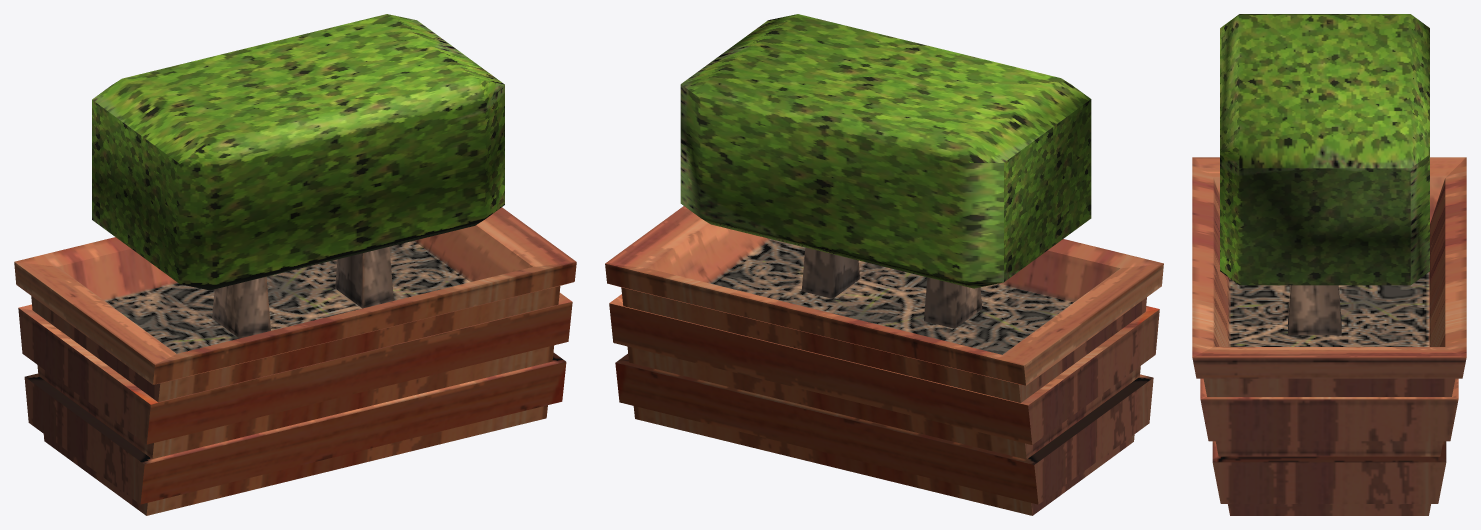
The model's file is PottedPlanter1.fbx.
3 renders of one model, left to right at view 1: azimuth 30°, elevation 25°; view 2: azimuth 150°, elevation 25°; view 3: azimuth 270°, elevation 25°, orthographic. The views are drawn at different scales.
Parts seen in each view (by area): view 1: PottedPlanter1:PottedPlanter1:pCube14; view 2: PottedPlanter1:PottedPlanter1:pCube14; view 3: PottedPlanter1:PottedPlanter1:pCube14.
Boxes of the visible parts, box(x1,y1,x2,y2) form: PottedPlanter1:PottedPlanter1:pCube14: box(14, 14, 576, 515); PottedPlanter1:PottedPlanter1:pCube14: box(605, 14, 1163, 515); PottedPlanter1:PottedPlanter1:pCube14: box(1192, 14, 1466, 515).
Size of the model in its own units: 212 by 169 by 123.
